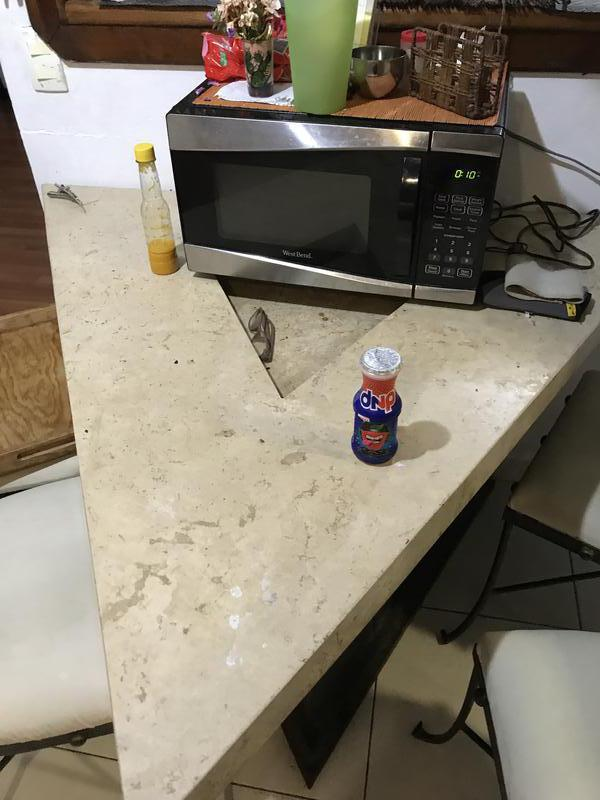danup: (352, 349, 402, 467)
